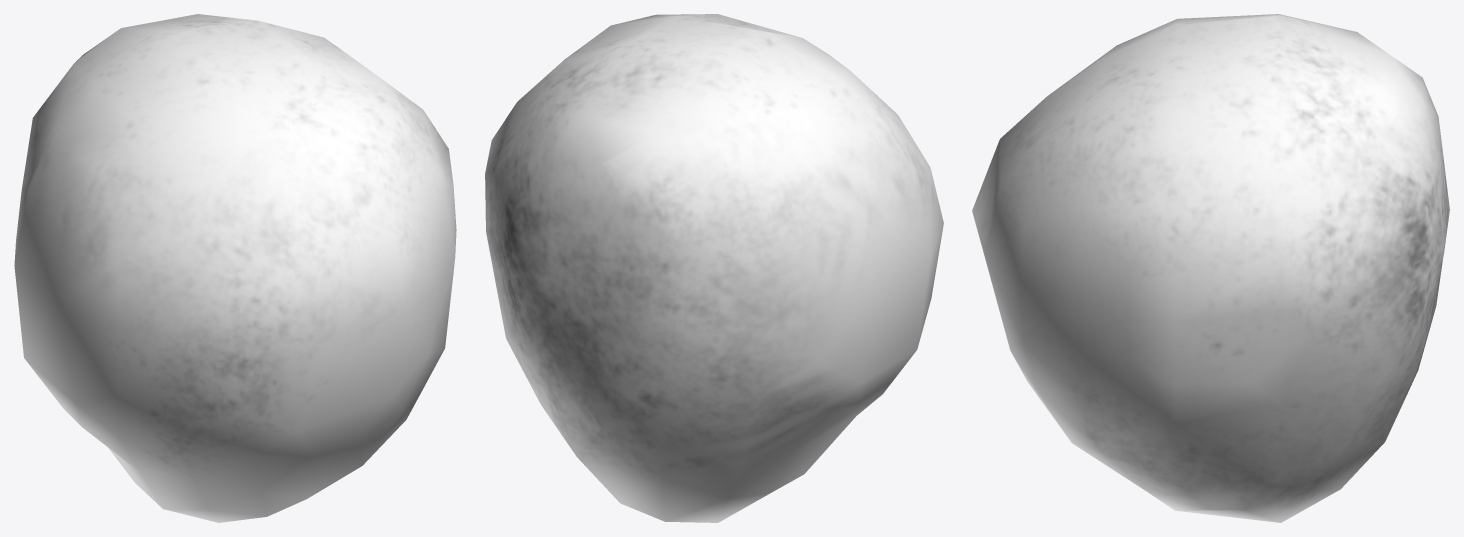
The model's file is SM_RefinedMetal_3b.fbx.
3 views of the same model, side by side, from view 1: azimuth 30°, elevation 25°; view 2: azimuth 150°, elevation 25°; view 3: azimuth 270°, elevation 25° (orthographic).
Visible parts, largest first — view 1: RefinedMetal_3b; view 2: RefinedMetal_3b; view 3: RefinedMetal_3b.
Part boxes in pixels (x1,y1,x2,y2): RefinedMetal_3b: (14,14,456,522); RefinedMetal_3b: (485,14,943,522); RefinedMetal_3b: (972,14,1449,522).
Bounding box in the file's own units: 0.4183 × 0.4657 × 0.4361.
